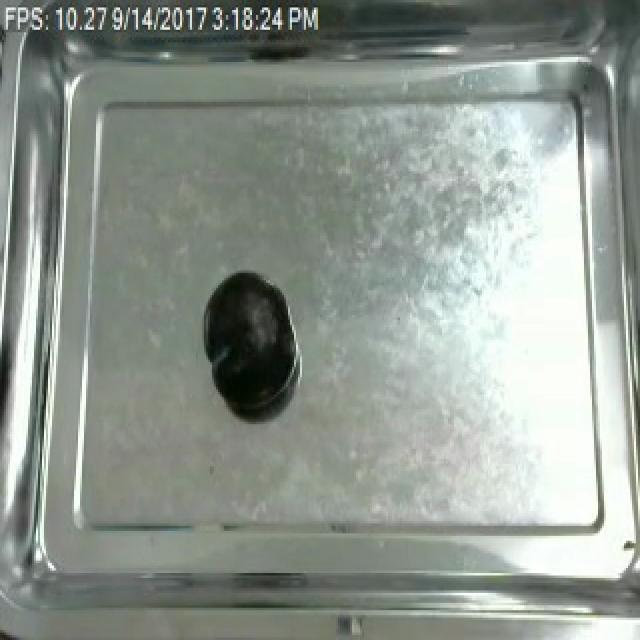Fruit: (200, 265, 294, 417)
